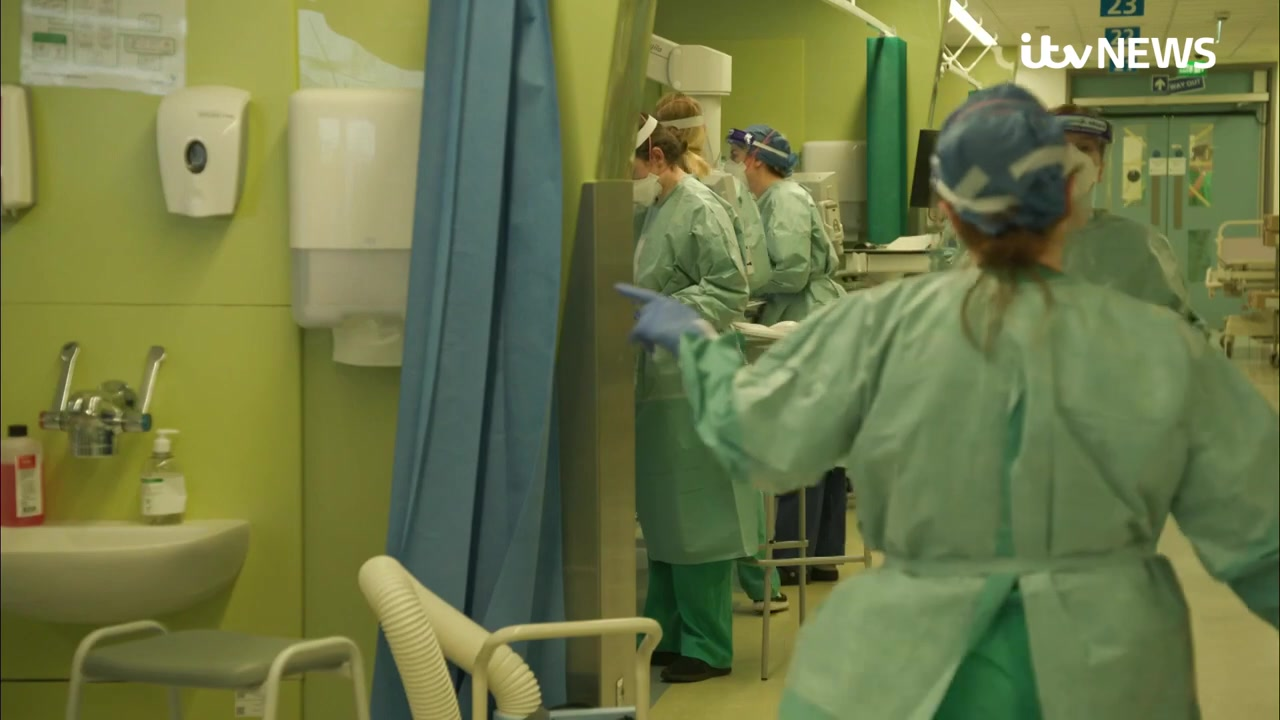chair: (65, 618, 364, 720)
curtain: (388, 1, 563, 588), (863, 34, 910, 244)
dispenser: (287, 87, 429, 366), (153, 82, 253, 217), (139, 428, 190, 524), (1, 83, 36, 217)
faucet: (36, 336, 165, 459)
hospital_bed: (1203, 211, 1280, 361)
sink: (1, 523, 246, 627)
staff: (613, 81, 1280, 720), (630, 111, 758, 684), (651, 90, 786, 618), (938, 101, 1208, 336), (723, 123, 844, 585)
